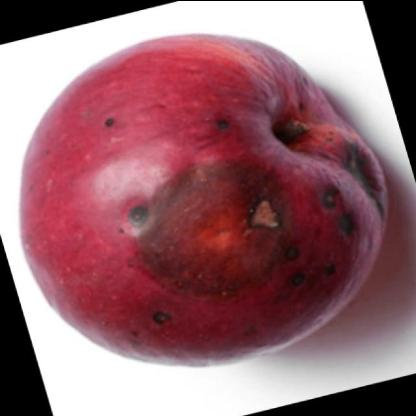defect: (132, 154, 291, 298), (313, 103, 383, 283), (110, 298, 197, 358), (60, 90, 136, 152), (190, 102, 252, 154)
